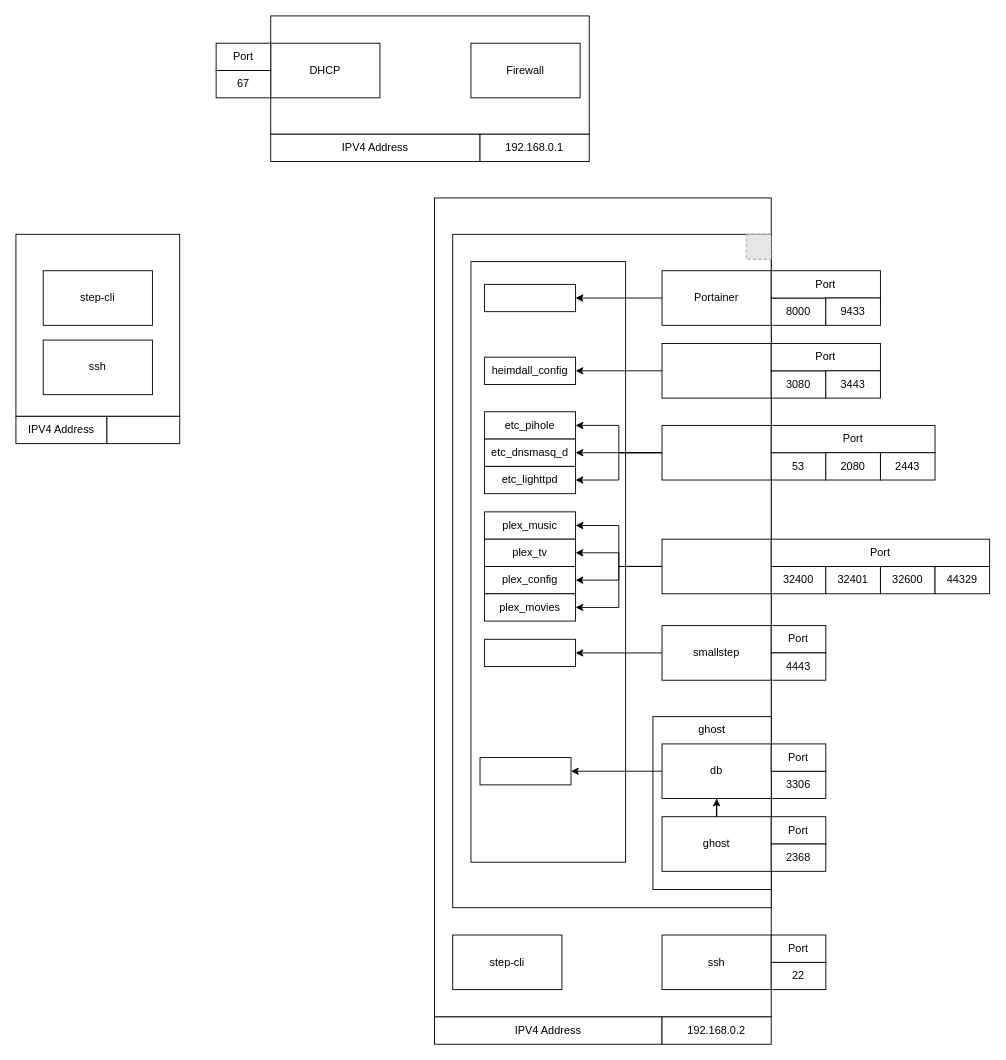
Some shapes in this 1006 by 1060 pixel diagram are drawn without their labels. Grey dashed boxes stand in for pictures. Here are the shapes that lost their labels. From the top down, the box of each, then its label:
(270, 15, 589, 134): Unifi Dream Machine
(484, 283, 576, 312): portainer_data
(15, 233, 180, 416): LAPTOP-RGPQB3DA
(661, 343, 771, 398): Heimdall
(106, 415, 180, 444): <dynamic>
(661, 425, 771, 480): Pihole
(470, 261, 626, 862): Volumes
(452, 233, 771, 908): Docker
(661, 538, 771, 594): Plex
(434, 197, 771, 1017): billie-goat
(484, 638, 576, 667): step
(479, 757, 571, 785): ghost_mysql
